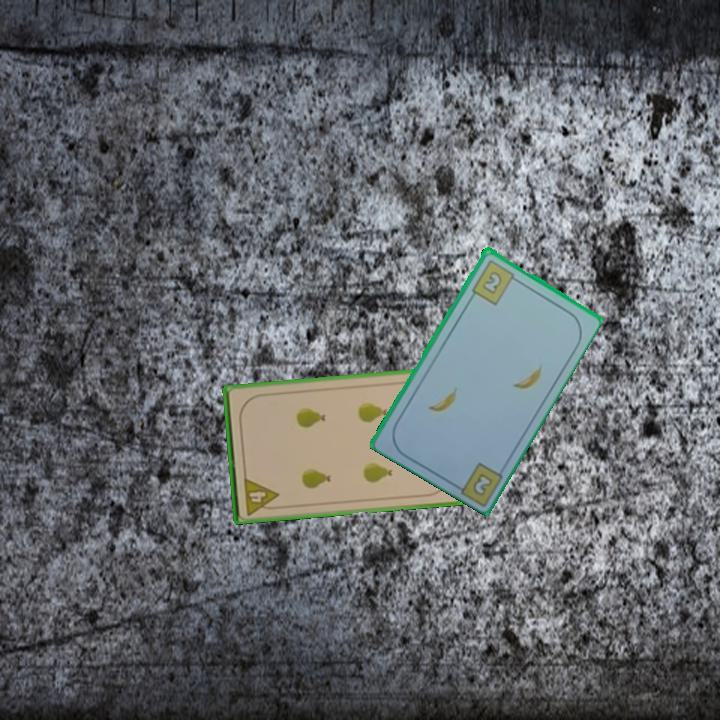2b: (468, 256, 521, 307), (469, 469, 496, 496)
4p: (240, 473, 282, 518)
